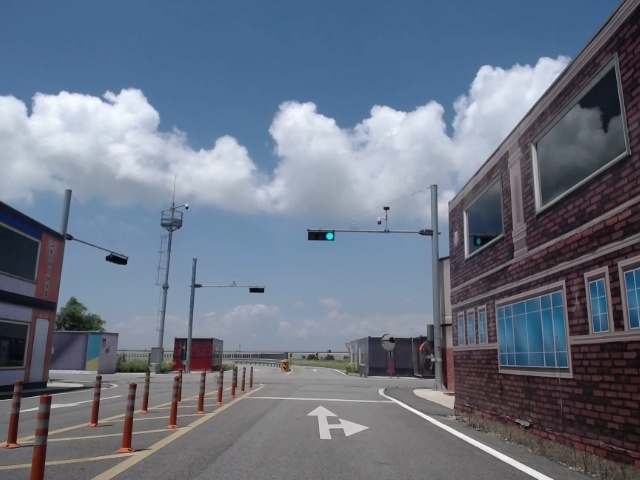green_3: (310, 231, 335, 241)
